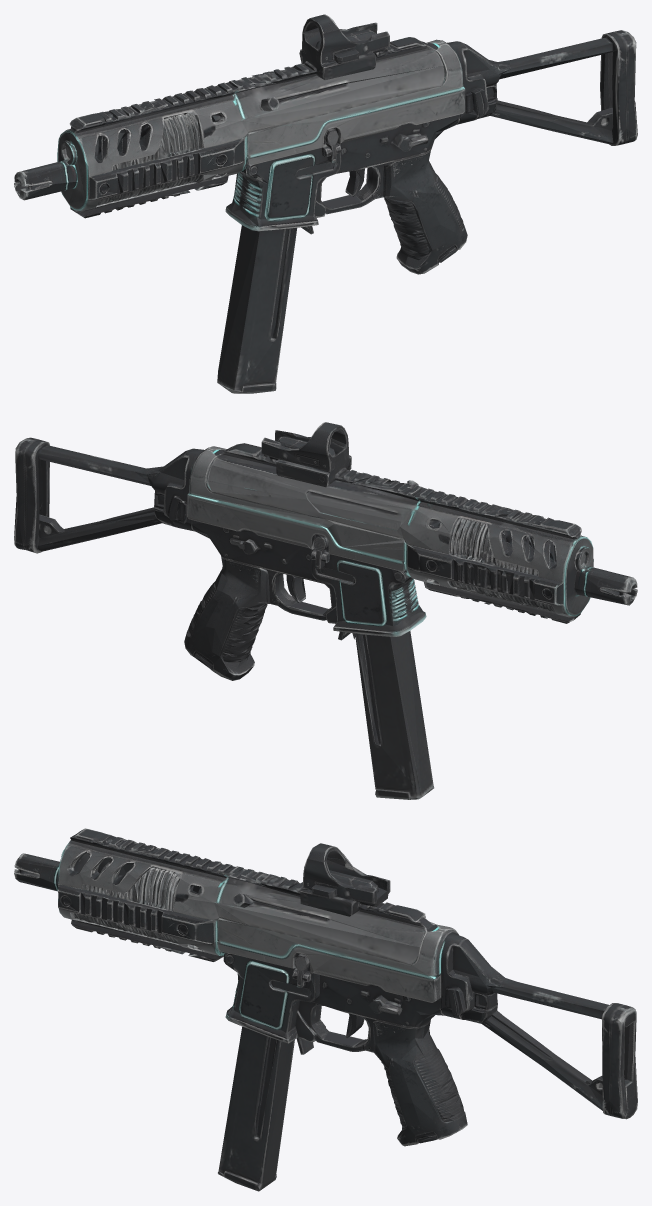
File: flux_smg.glb
3 views of the same model, one above another, from view 1: azimuth 30°, elevation 25°; view 2: azimuth 150°, elevation 25°; view 3: azimuth 330°, elevation 25° (orthographic).
Parts seen in each view (by area): view 1: Mesh_0; view 2: Mesh_0; view 3: Mesh_0.
Part boxes in pixels (<box>): Mesh_0: <box>14,14,637,393</box>; Mesh_0: <box>14,422,637,799</box>; Mesh_0: <box>14,828,637,1191</box>.
Bounding box in the file's own units: 1.9 × 1.05 × 0.2091.
1 material, 1 textured.
